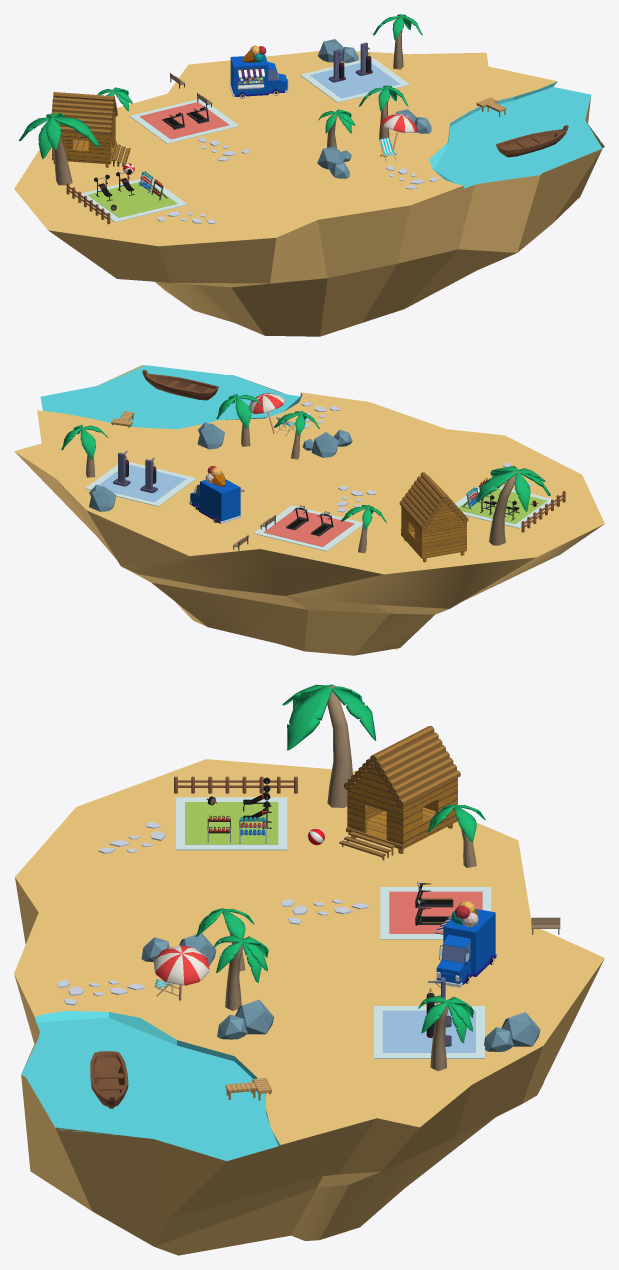
File: island.fbx
The picture shows the model from 3 angles, top to bottom: view 1: azimuth 30°, elevation 25°; view 2: azimuth 150°, elevation 25°; view 3: azimuth 270°, elevation 25°; orthographic projection. The views are drawn at different scales.
Visible parts, largest first — view 1: Ilha 02, polySurface75, Furgone gelati.001, Coqueiro.003, Cube.073, Cube.078, Cube.093, boat LP, Cube.052, Cube.080, Cube.064, Coqueiro.004 (+4 smaller); view 2: Ilha 02, polySurface75, Coqueiro.003, Furgone gelati.001, Cube.078, Cube.093, boat LP, Cube.073, Cube.052, Cube.080, Coqueiro.001, Coqueiro.004 (+8 smaller); view 3: Ilha 02, polySurface75, Coqueiro.003, Furgone gelati.001, Cube.073, Cube.093, Cube.078, Cube.064, Coqueiro.004, Coqueiro.001, guarda, boat LP (+7 smaller).
Boxes of the visible parts, left/top/right/bottom form: Ilha 02: left=14, top=51, right=604, bottom=336; polySurface75: left=51, top=92, right=130, bottom=167; Furgone gelati.001: left=229, top=45, right=288, bottom=98; Coqueiro.003: left=18, top=113, right=100, bottom=185; Cube.073: left=88, top=181, right=177, bottom=217; Cube.078: left=139, top=102, right=229, bottom=139; Cube.093: left=310, top=63, right=399, bottom=98; boat LP: left=496, top=125, right=568, bottom=157; Cube.052: left=129, top=99, right=238, bottom=143; Cube.080: left=300, top=57, right=409, bottom=102; Cube.064: left=77, top=177, right=187, bottom=222; Coqueiro.004: left=373, top=14, right=422, bottom=69; Ilha 02: left=14, top=365, right=604, bottom=655; polySurface75: left=399, top=472, right=468, bottom=562; Coqueiro.003: left=476, top=466, right=550, bottom=545; Furgone gelati.001: left=189, top=466, right=244, bottom=523; Cube.078: left=264, top=509, right=354, bottom=546; Cube.093: left=98, top=464, right=185, bottom=501; boat LP: left=142, top=370, right=218, bottom=400; Cube.073: left=459, top=488, right=547, bottom=523; Cube.052: left=253, top=505, right=362, bottom=551; Cube.080: left=85, top=462, right=196, bottom=506; Coqueiro.001: left=216, top=394, right=263, bottom=446; Coqueiro.004: left=61, top=425, right=108, bottom=477; Ilha 02: left=14, top=759, right=604, bottom=1255; polySurface75: left=339, top=726, right=460, bottom=860; Coqueiro.003: left=282, top=684, right=376, bottom=807; Furgone gelati.001: left=434, top=901, right=497, bottom=987; Cube.073: left=185, top=802, right=278, bottom=844; Cube.093: left=382, top=1010, right=475, bottom=1052; Cube.078: left=389, top=891, right=482, bottom=933; Cube.064: left=176, top=797, right=287, bottom=850; Coqueiro.004: left=418, top=995, right=474, bottom=1070; Coqueiro.001: left=213, top=935, right=268, bottom=1010; guarda: left=153, top=945, right=209, bottom=1000; boat LP: left=90, top=1051, right=128, bottom=1108.
Bounding box in the file's own units: 85.53 × 32.3 × 53.86.
14 materials, 13 textured.
